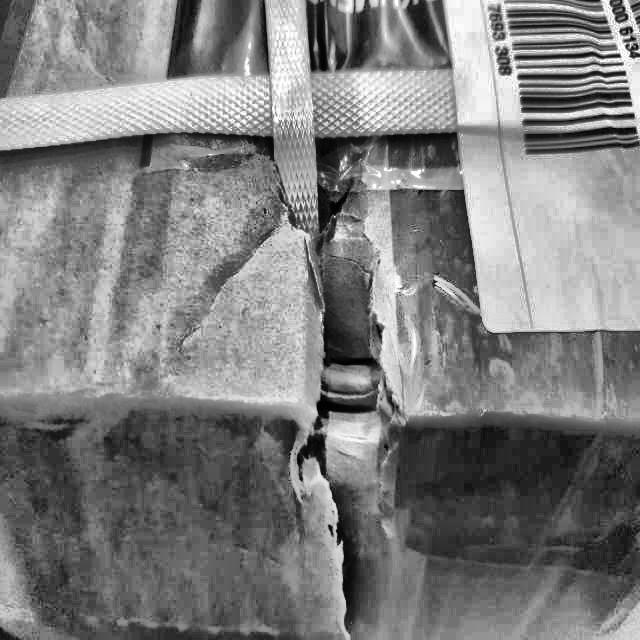box: (0, 2, 638, 637)
hole: (317, 195, 399, 639)
